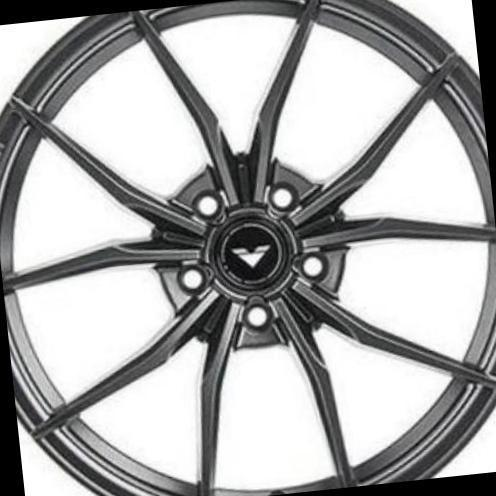hole: (296, 247, 330, 285), (239, 297, 274, 333), (268, 178, 301, 214), (176, 260, 210, 294), (190, 188, 223, 219)
